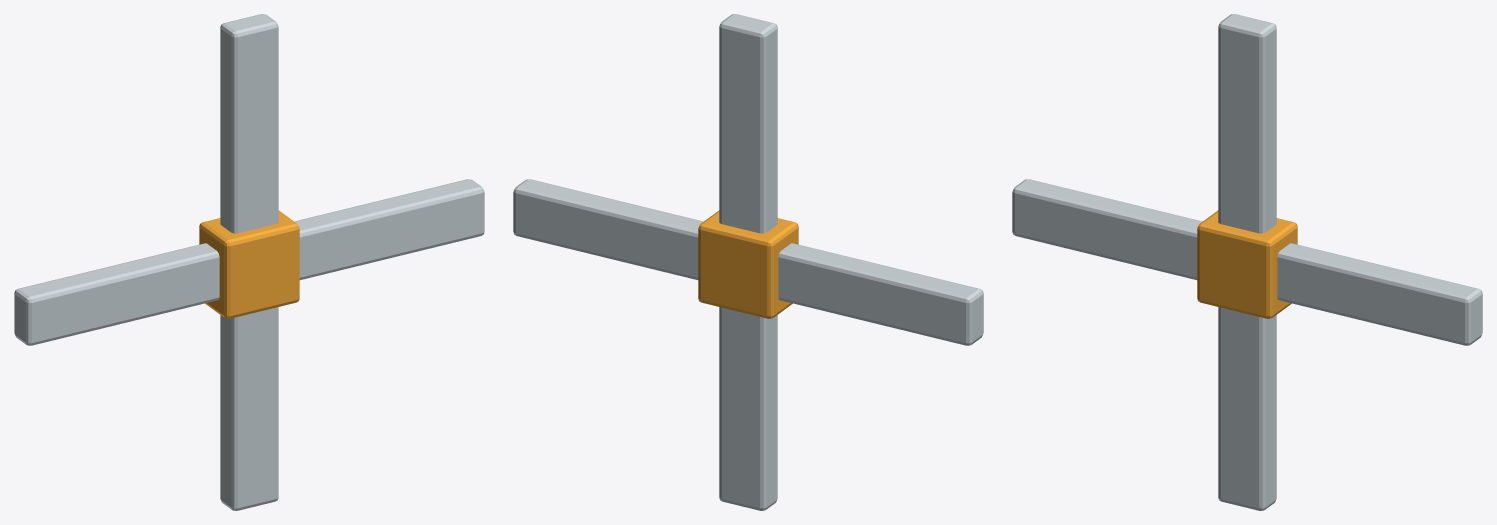
The model's file is CL_Rotor_Pivot.fbx.
The picture shows the model from 3 angles, left to right: view 1: azimuth 30°, elevation 25°; view 2: azimuth 150°, elevation 25°; view 3: azimuth 330°, elevation 25°; orthographic projection.
Parts seen in each view (by area): view 1: RotorBlade.001, RotorBlade.002, RotorBlade.003, RotorBlade, Hub; view 2: RotorBlade.001, RotorBlade.002, RotorBlade.003, RotorBlade, Hub; view 3: RotorBlade.001, RotorBlade, RotorBlade.003, RotorBlade.002, Hub.
Boxes of the visible parts, left/top/right/bottom form: RotorBlade.001: left=220, top=14, right=278, bottom=233; RotorBlade.002: left=14, top=243, right=219, bottom=345; RotorBlade.003: left=220, top=307, right=278, bottom=510; RotorBlade: left=294, top=179, right=484, bottom=279; Hub: left=199, top=210, right=299, bottom=318; RotorBlade.001: left=719, top=14, right=777, bottom=233; RotorBlade.002: left=778, top=243, right=983, bottom=345; RotorBlade.003: left=719, top=307, right=777, bottom=510; RotorBlade: left=513, top=179, right=703, bottom=279; Hub: left=698, top=210, right=798, bottom=318; RotorBlade.001: left=1218, top=14, right=1276, bottom=233; RotorBlade: left=1277, top=243, right=1482, bottom=345; RotorBlade.003: left=1218, top=307, right=1276, bottom=510; RotorBlade.002: left=1012, top=179, right=1202, bottom=279; Hub: left=1197, top=210, right=1297, bottom=318.
Bounding box in the file's own units: 2.74 × 2.74 × 0.3.
